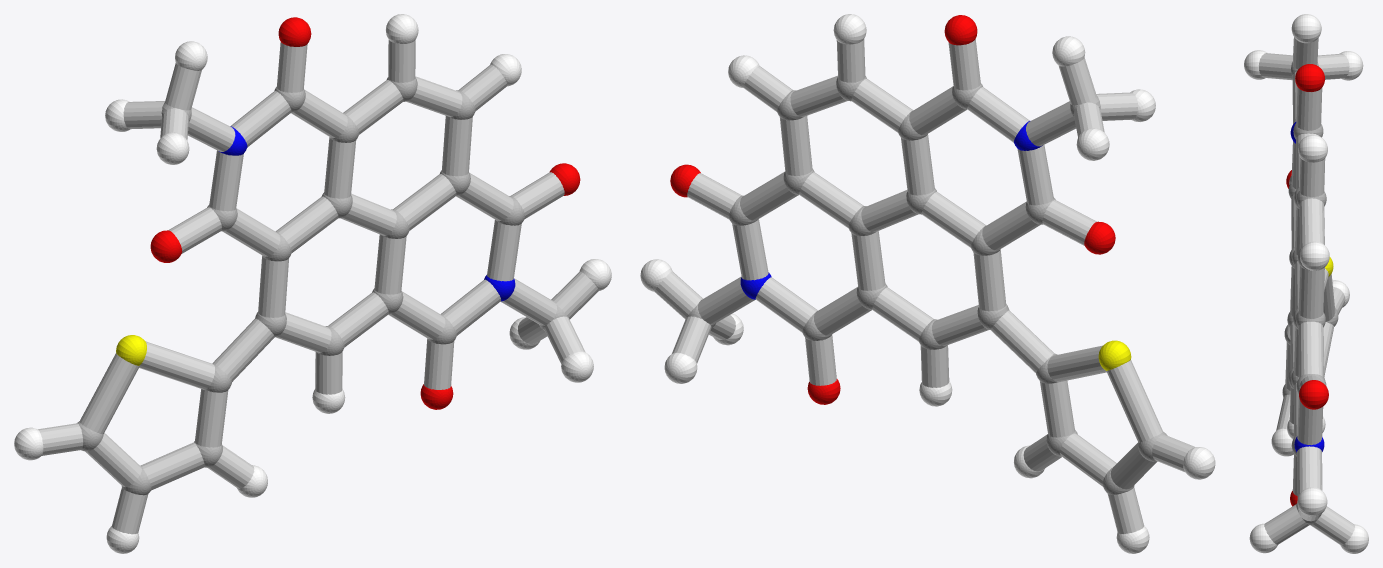
Rendered from Dimethyl_Naphthalene_Dicarboximide_Phi_10_Theta_190_Thiophene.glb.
3 views of the same model, side by side, from view 1: azimuth 30°, elevation 25°; view 2: azimuth 150°, elevation 25°; view 3: azimuth 270°, elevation 25° (orthographic). The views are drawn at different scales.
Visible parts, largest first — view 1: grp14119, grp7241, grp1, grp12309, grp11585, grp13757; view 2: grp14119, grp7241, grp1, grp12309, grp13757, grp11585; view 3: grp14119, grp7241, grp1, grp12309, grp11585.
Part boxes in pixels (x1=…): grp14119: x1=38, y1=40, x2=598, y2=534; grp7241: x1=14, y1=14, x2=611, y2=553; grp1: x1=77, y1=77, x2=567, y2=495; grp12309: x1=150, y1=17, x2=580, y2=409; grp11585: x1=219, y1=126, x2=515, y2=301; grp13757: x1=116, y1=335, x2=146, y2=365; grp14119: x1=654, y1=39, x2=1195, y2=533; grp7241: x1=640, y1=14, x2=1215, y2=553; grp1: x1=687, y1=76, x2=1167, y2=494; grp12309: x1=670, y1=15, x2=1115, y2=404; grp13757: x1=1098, y1=340, x2=1131, y2=370; grp11585: x1=740, y1=121, x2=1042, y2=299; grp14119: x1=1258, y1=37, x2=1354, y2=545; grp7241: x1=1244, y1=14, x2=1368, y2=553; grp1: x1=1282, y1=62, x2=1338, y2=524; grp12309: x1=1286, y1=64, x2=1328, y2=506; grp11585: x1=1290, y1=122, x2=1324, y2=452.
Size of the model in its own units: 12.26 by 9.98 by 2.5.
